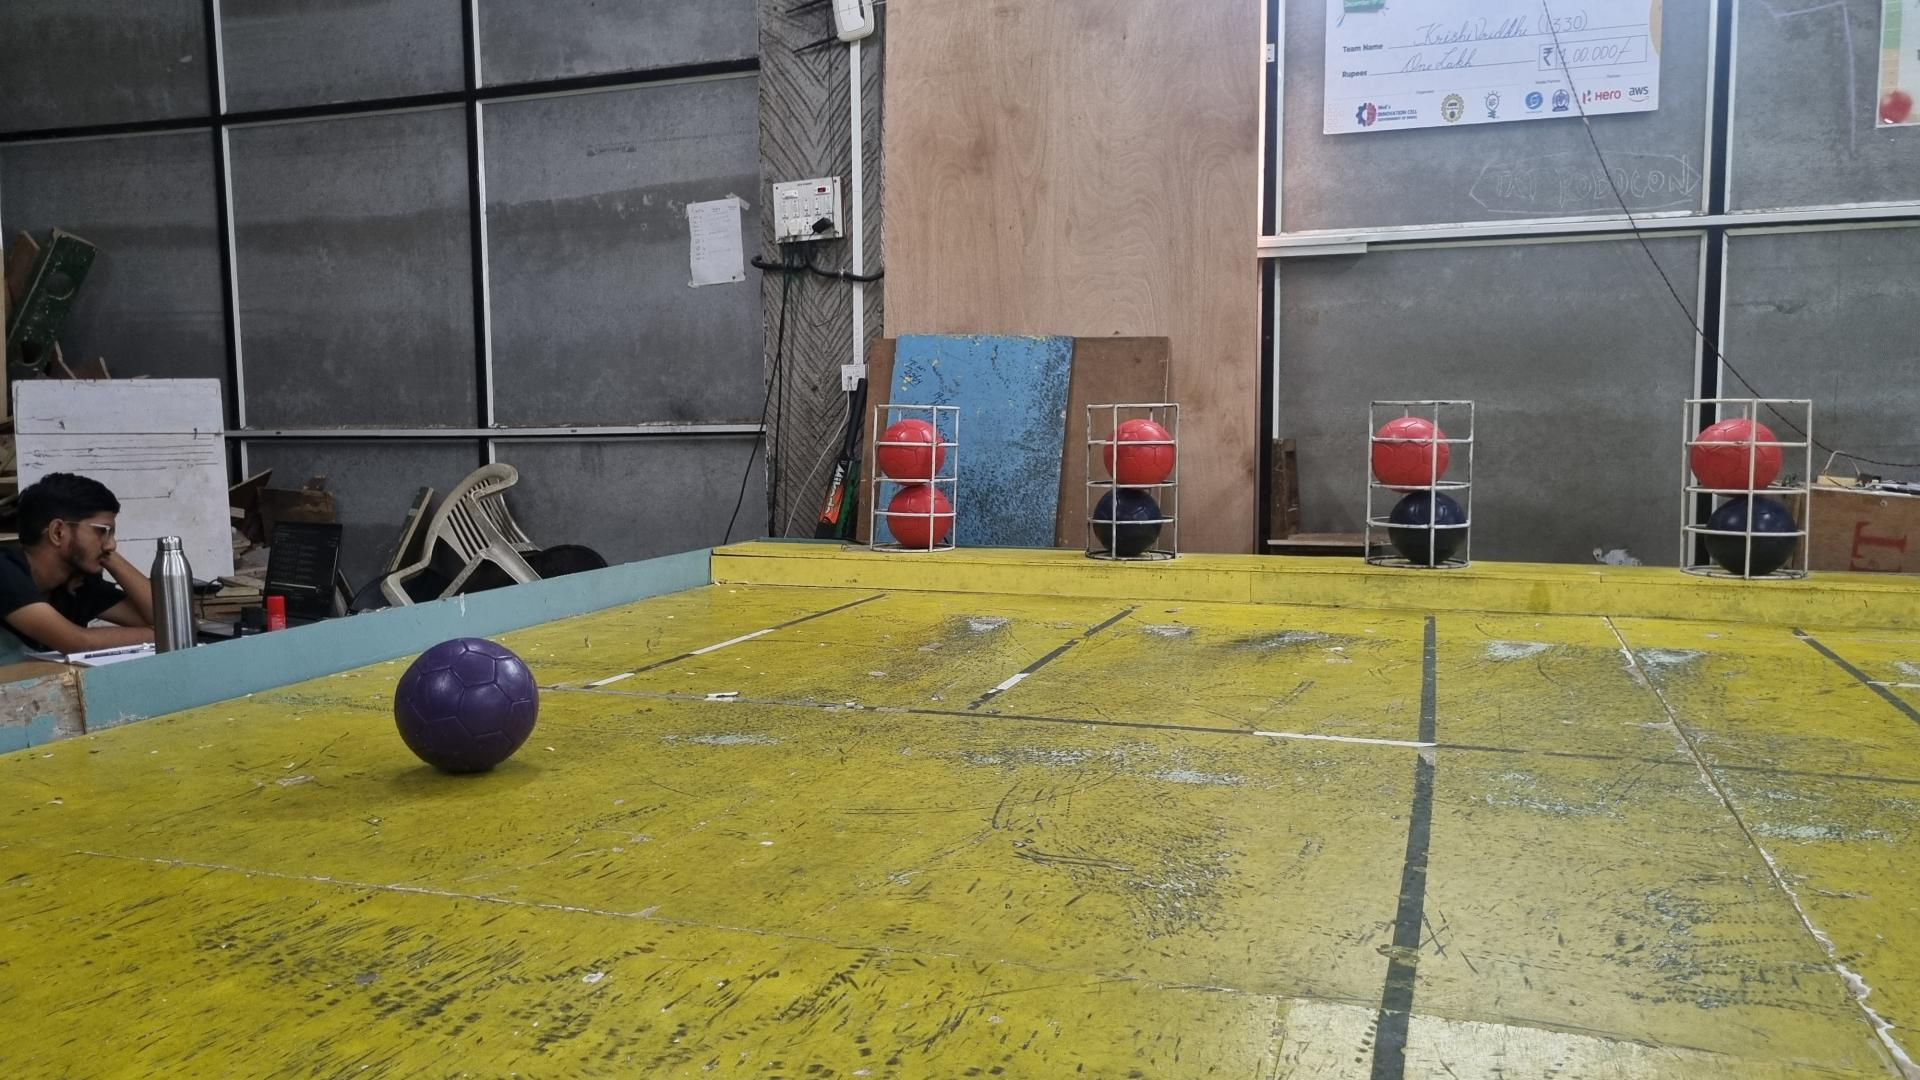dhoka: (1706, 495, 1796, 578), (1387, 491, 1466, 566), (1092, 487, 1163, 558)
laale: (1692, 415, 1782, 491), (1373, 415, 1452, 487), (1102, 419, 1174, 484), (877, 419, 945, 484), (889, 484, 952, 547)
